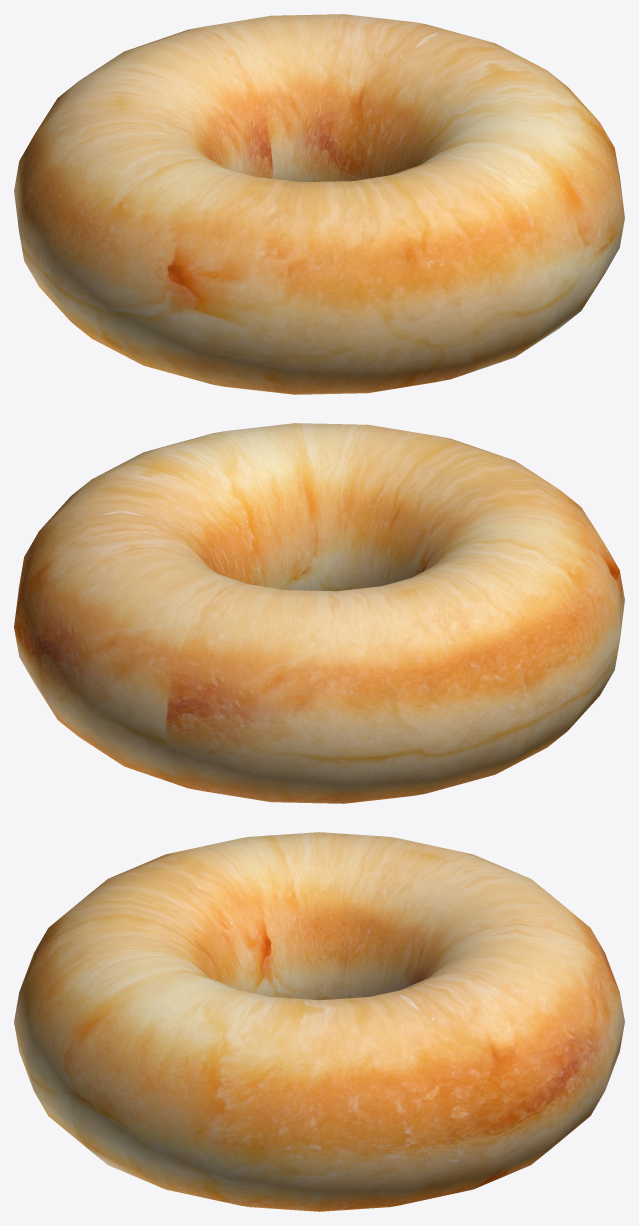
The model's file is donuts.fbx.
The picture shows the model from 3 angles, top to bottom: view 1: azimuth 30°, elevation 25°; view 2: azimuth 150°, elevation 25°; view 3: azimuth 270°, elevation 25°; orthographic projection.
Visible parts, largest first — view 1: pTorus1; view 2: pTorus1; view 3: pTorus1.
Part boxes in pixels (<box>): pTorus1: <box>14,14,624,394</box>; pTorus1: <box>14,423,624,803</box>; pTorus1: <box>14,832,624,1211</box>.
Size of the model in its own units: 5.16 by 1.8 by 5.16.
Materials: 1 (1 with a texture image).
